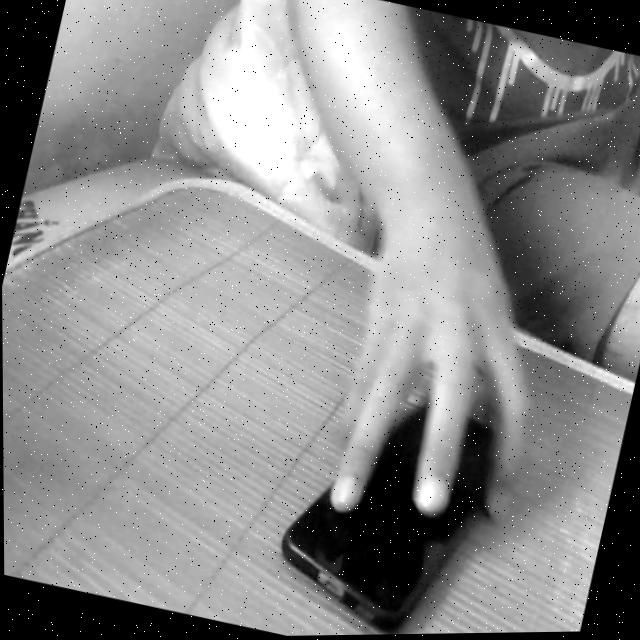phone: (258, 319, 542, 637)
